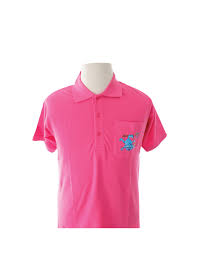C_polo shirt: (33, 77, 166, 230)
